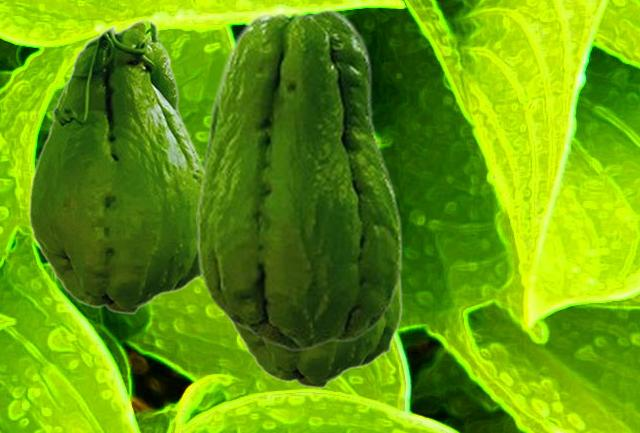sayote: (196, 7, 402, 351), (28, 18, 203, 314), (225, 273, 402, 388)
